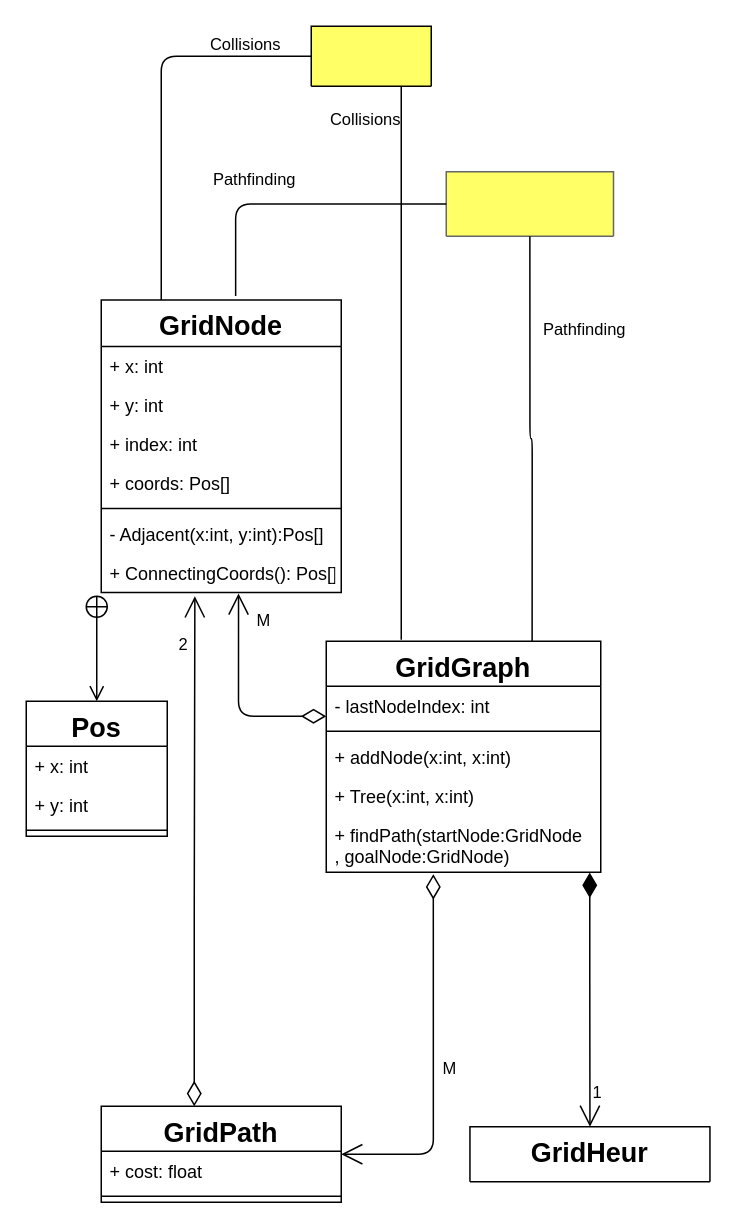
Image size: 737x1229. Some labels were removed from this diagram. The centre of each missing label's shape, as x and y in pixels:
Map: (370,55)
Operatives: (529,203)
